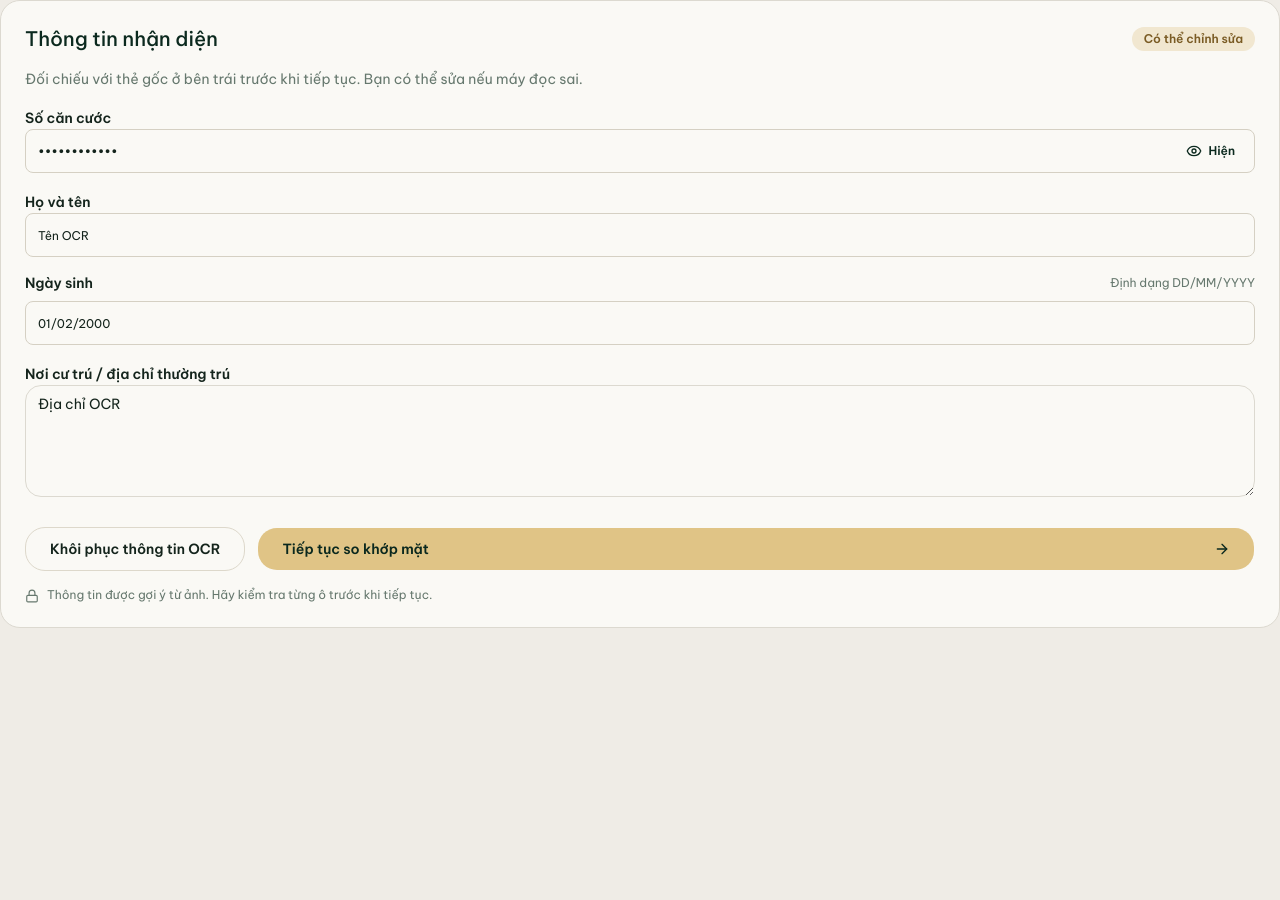
Test: số căn cước ẩn mặc định, có nút Hiện/Ẩn ngay trong ô để người dùng đối chiếu với thẻ
Click the button with aria-label "Hiện số căn cước" at (1211, 151), box [1174, 135, 1247, 167]
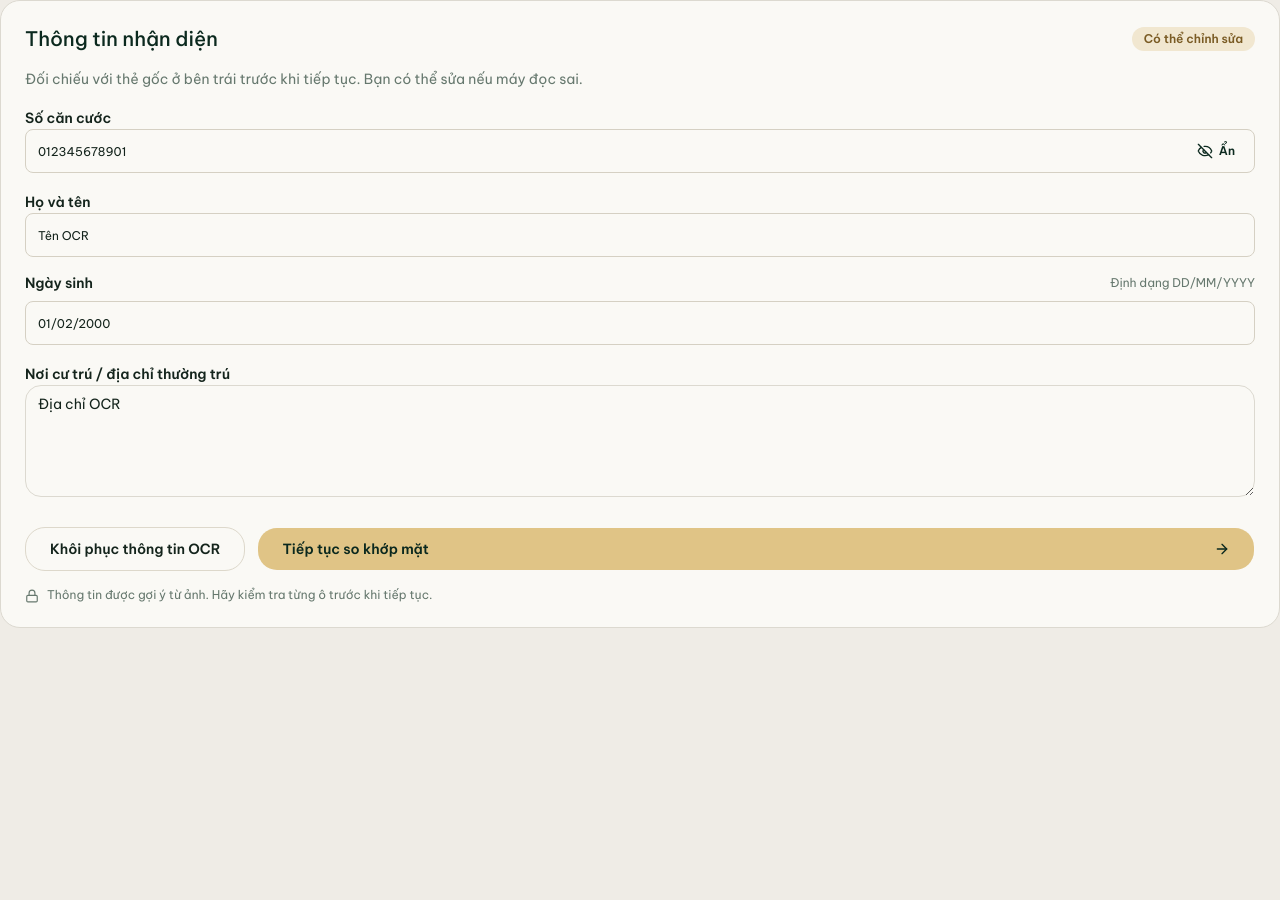
Expected: the field labelled "Số căn cước" holds "012345678901", [25, 129, 1255, 173]
Expected: the field labelled "Số căn cước" shows its text, [25, 129, 1255, 173]
Expected: the button with aria-label "Ẩn số căn cước" reads "Ẩn"
Click the button with aria-label "Ẩn số căn cước" at (1216, 151), box [1185, 135, 1247, 167]
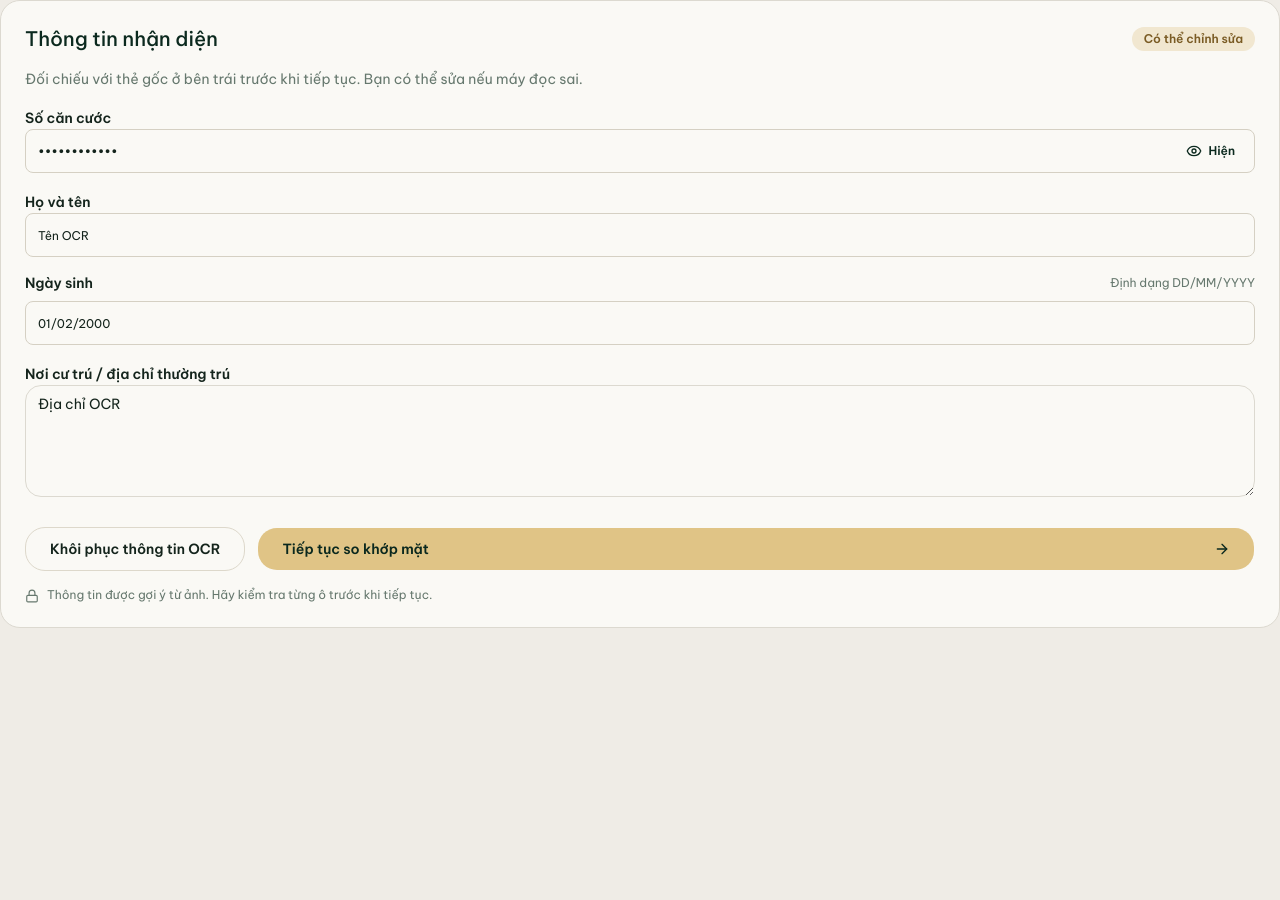
Expected: the password field labelled "Số căn cước" hides its text, [25, 129, 1255, 173]
